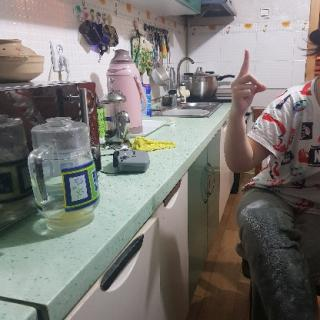TAA: (226, 45, 269, 116)
